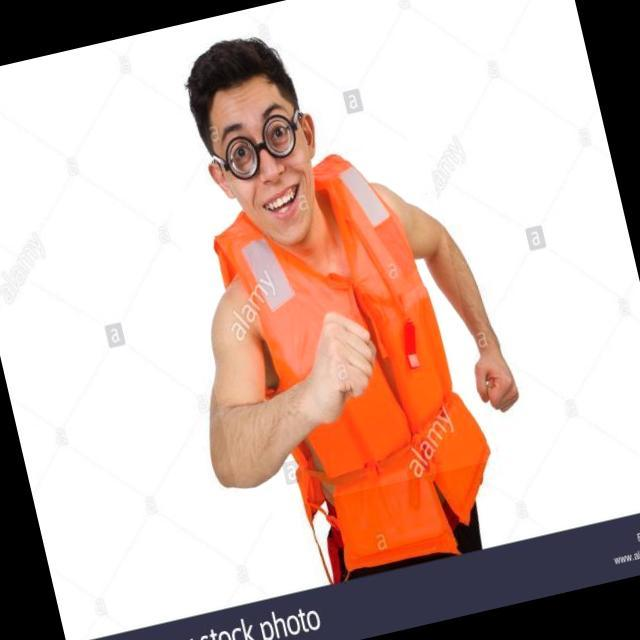Person: (144, 7, 540, 589)
Safety Vest: (169, 137, 497, 518)
bare-arms: (272, 307, 393, 394), (458, 342, 524, 416)
no-helmet: (174, 33, 291, 94)
